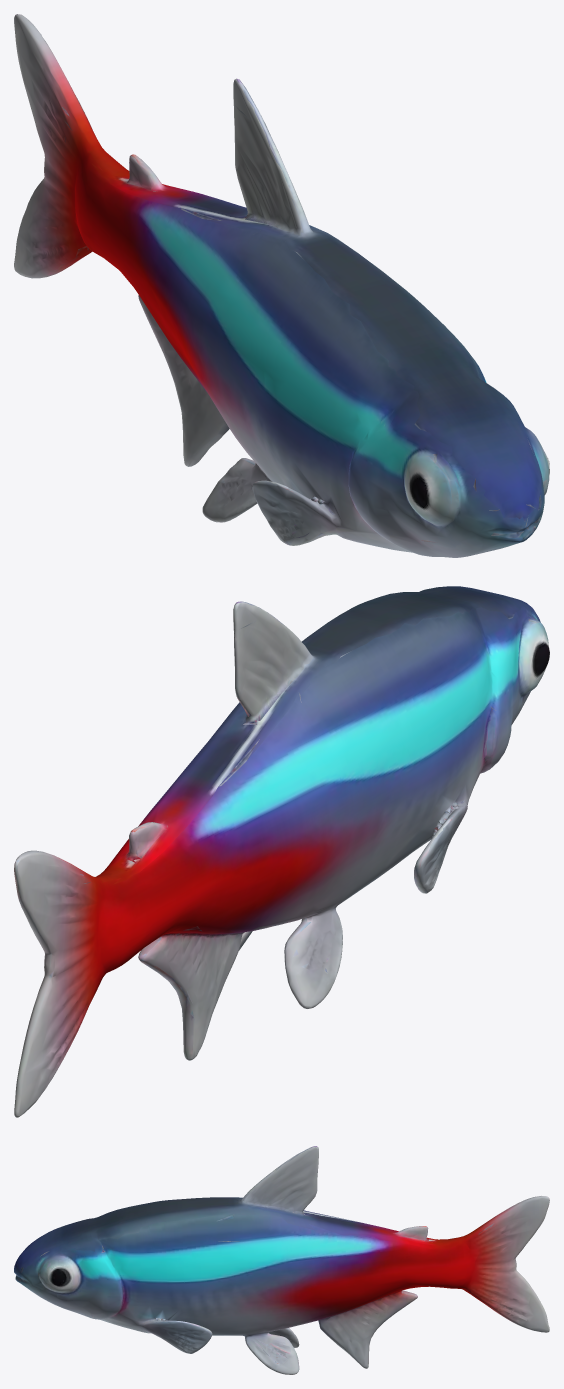
File: fish_neon_tetra.glb
The picture shows the model from 3 angles, top to bottom: view 1: azimuth 30°, elevation 25°; view 2: azimuth 150°, elevation 25°; view 3: azimuth 270°, elevation 25°; orthographic projection. The views are drawn at different scales.
Parts seen in each view (by area): view 1: Mesh_0; view 2: Mesh_0; view 3: Mesh_0.
Boxes of the visible parts, bbox=[...] form: Mesh_0: bbox=[14, 14, 549, 557]; Mesh_0: bbox=[14, 586, 549, 1117]; Mesh_0: bbox=[14, 1146, 549, 1374].
Bounding box in the file's own units: 0.3758 × 0.8747 × 1.91.
1 material, 1 textured.
